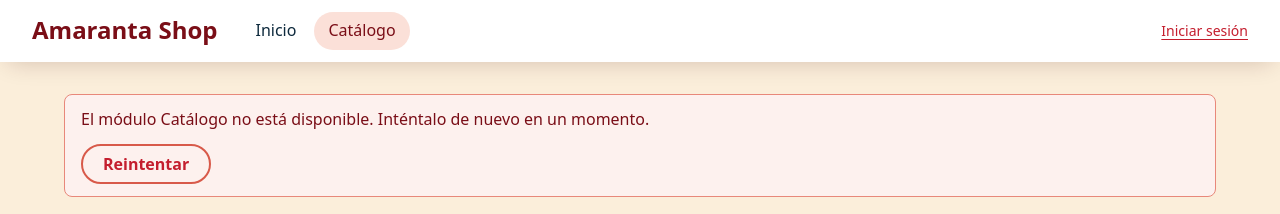
Test: App › tries the load again when the person asks
Click the button "Reintentar".
click(146, 164)  # box [81, 144, 211, 184]
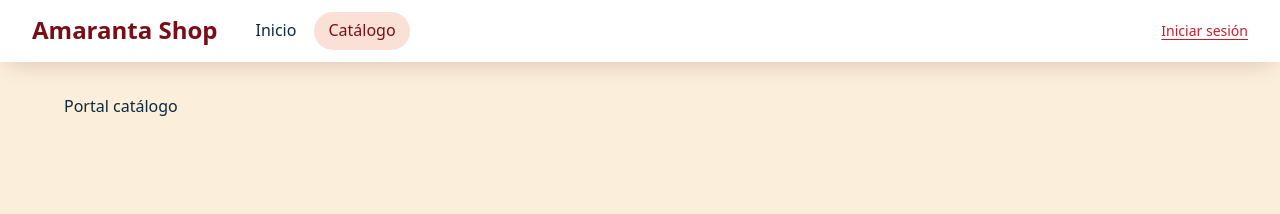
Check: the text "Portal catálogo" is shown, box [64, 95, 178, 117]
